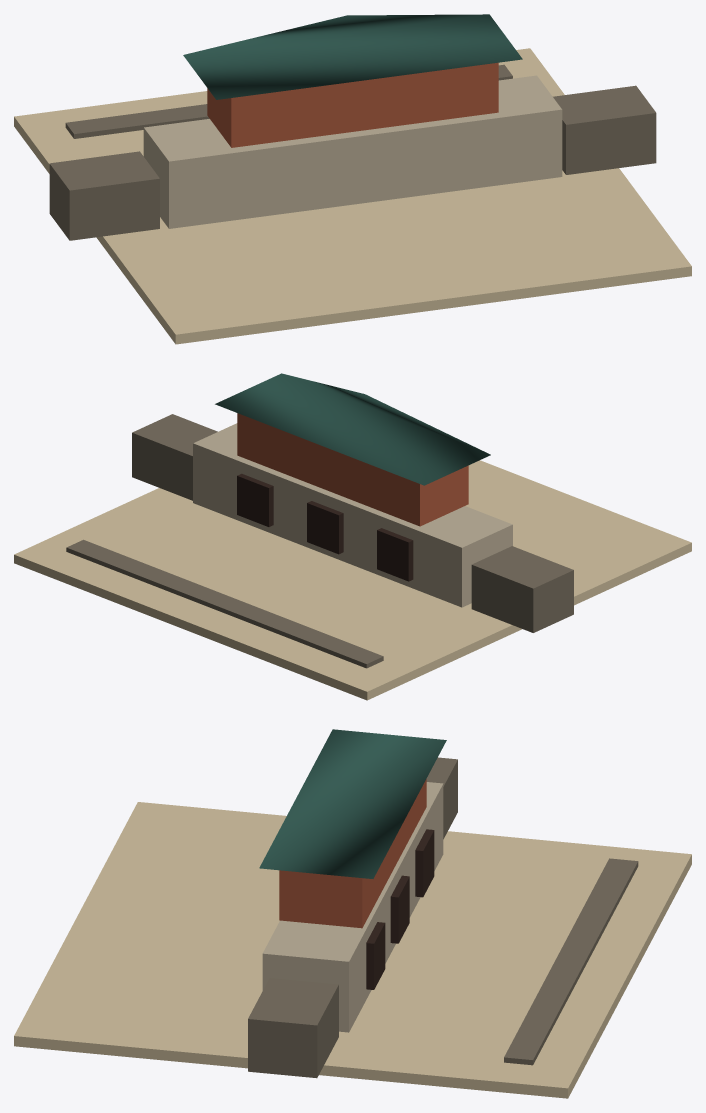
Rendered from model-medium.glb.
3 views of the same model, one above another, from view 1: azimuth 30°, elevation 25°; view 2: azimuth 150°, elevation 25°; view 3: azimuth 270°, elevation 25° (orthographic). The views are drawn at different scales.
Visible parts, largest first — view 1: context_site_plinth, city_gate_platform, gatehouse_roof, side_wall_segment (×2), upper_gatehouse_body, front_scale_strip; view 2: context_site_plinth, city_gate_platform, gatehouse_roof, side_wall_segment (×2), upper_gatehouse_body, front_scale_strip, arched_gate_opening (×3); view 3: context_site_plinth, gatehouse_roof, city_gate_platform, side_wall_segment (×2), front_scale_strip, upper_gatehouse_body, arched_gate_opening (×3).
Part boxes in pixels (x1,y1,x2,y2): context_site_plinth: [14, 48, 691, 344]; city_gate_platform: [143, 75, 562, 228]; gatehouse_roof: [183, 14, 522, 99]; side_wall_segment (×2): [49, 85, 656, 240]; upper_gatehouse_body: [207, 62, 498, 147]; front_scale_strip: [65, 64, 512, 138]; context_site_plinth: [14, 460, 691, 700]; city_gate_platform: [193, 423, 512, 607]; gatehouse_roof: [215, 373, 490, 485]; side_wall_segment (×2): [132, 414, 573, 632]; upper_gatehouse_body: [237, 413, 468, 526]; front_scale_strip: [66, 539, 383, 668]; arched_gate_opening (×3): [237, 473, 413, 581]; context_site_plinth: [14, 802, 691, 1098]; gatehouse_roof: [259, 729, 446, 878]; city_gate_platform: [262, 782, 443, 1032]; side_wall_segment (×2): [248, 757, 457, 1078]; front_scale_strip: [504, 858, 638, 1065]; upper_gatehouse_body: [279, 779, 426, 928]; arched_gate_opening (×3): [366, 829, 434, 989].
Bounding box in the file's own units: 9.55 × 2.9 × 9.55.
